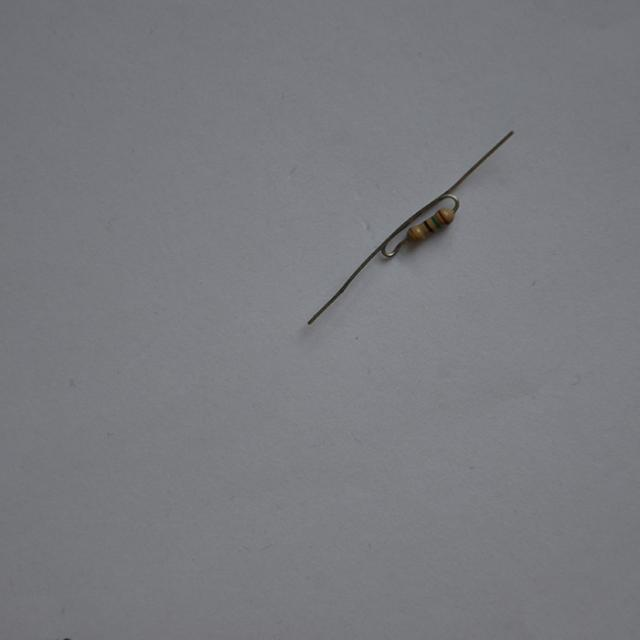black: (421, 219, 435, 232)
brown: (437, 209, 450, 222)
gold: (408, 227, 423, 240)
green: (431, 216, 441, 226)
resistor: (397, 201, 464, 256)
